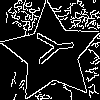Y: (26, 28, 75, 66)
